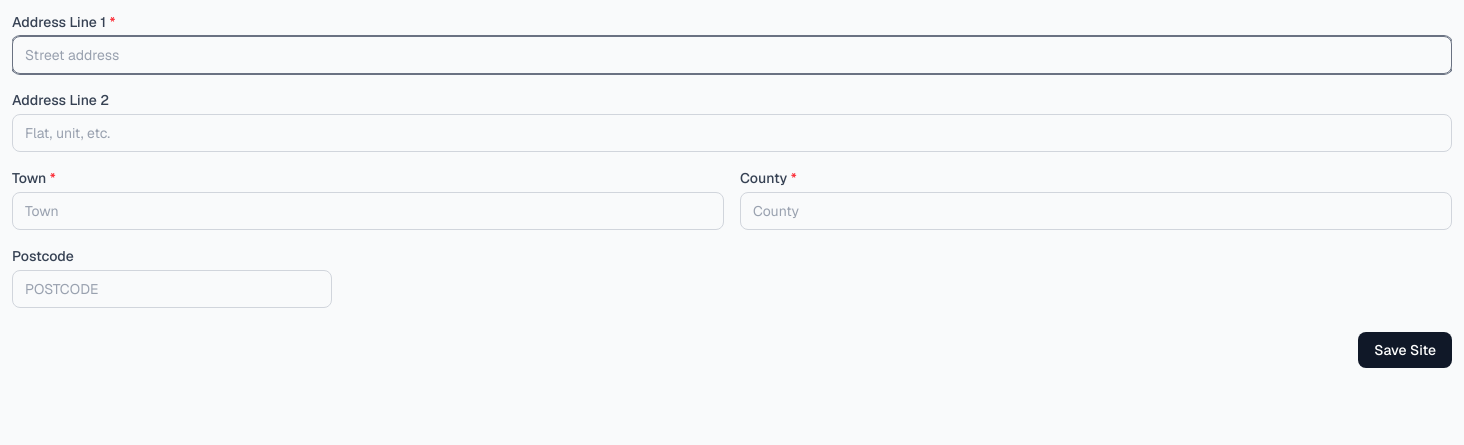
Test: AddSiteForm — typed address survives, and offline is gated › keeps the whole typed address after a server bounce
Type "9 Test Street" into the field labelled "Address Line 1 *" at [732, 55], box [12, 36, 1452, 74]
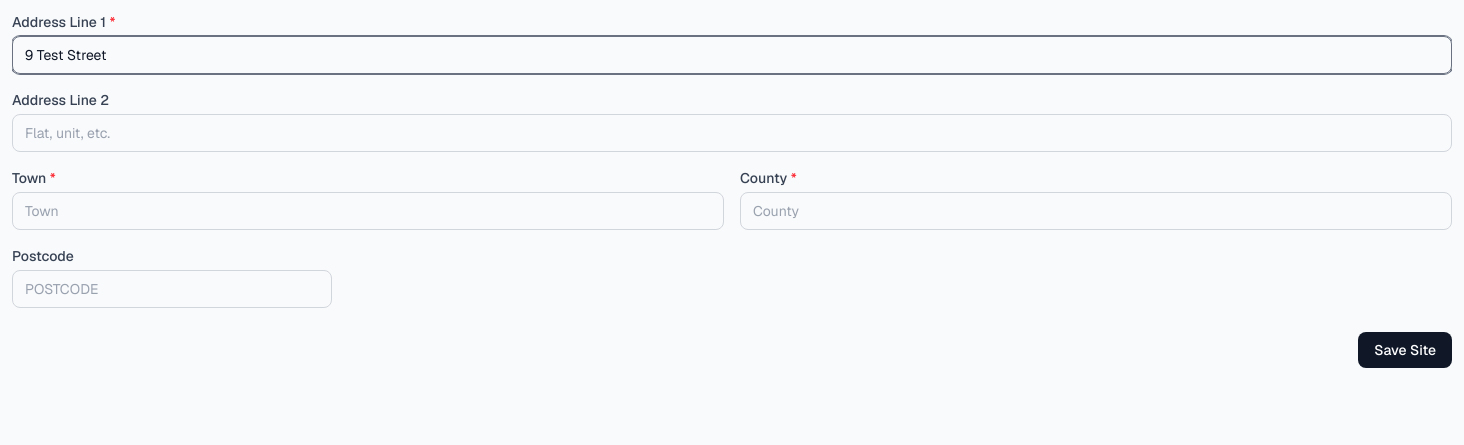
Type "Rear unit" into the field labelled "Address Line 2" at [732, 133], box [12, 114, 1452, 152]
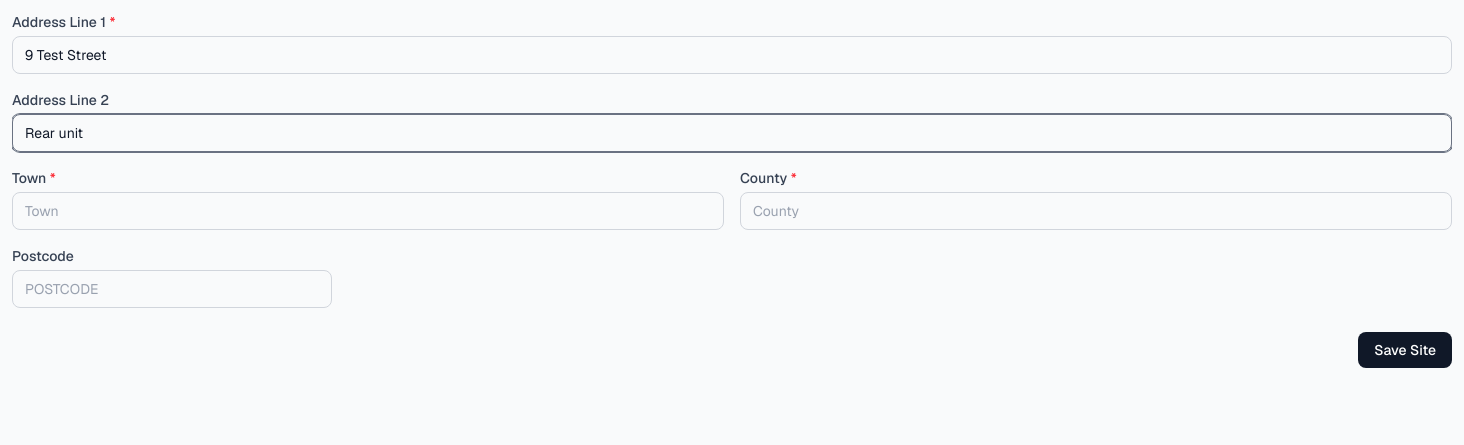
Type "Testford" into the field labelled "Town *" at [368, 211], box [12, 192, 724, 230]
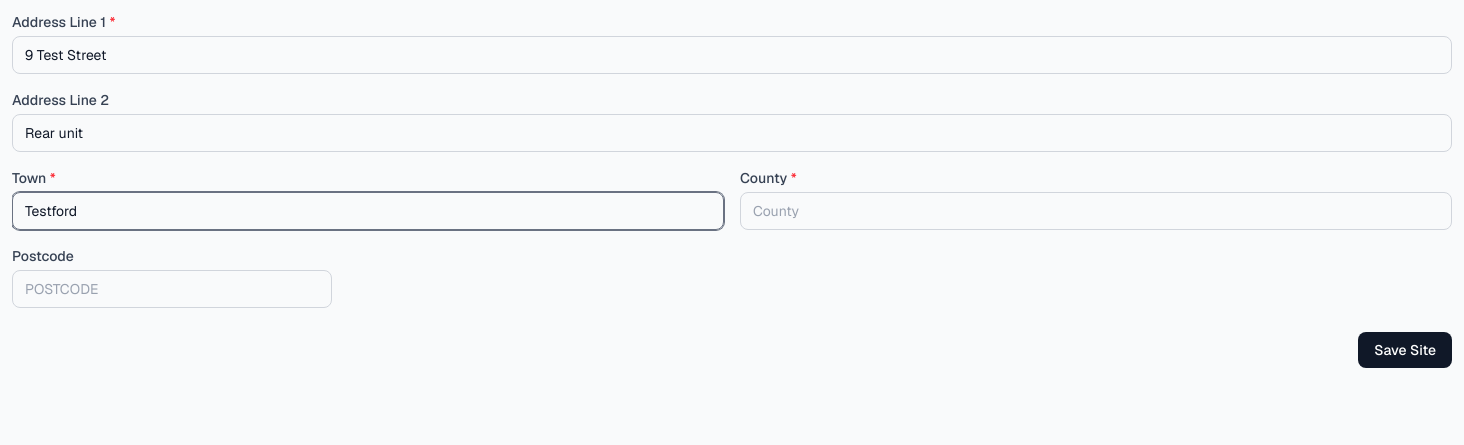
Type "Kent" into the field labelled "County *" at [1096, 211], box [740, 192, 1452, 230]
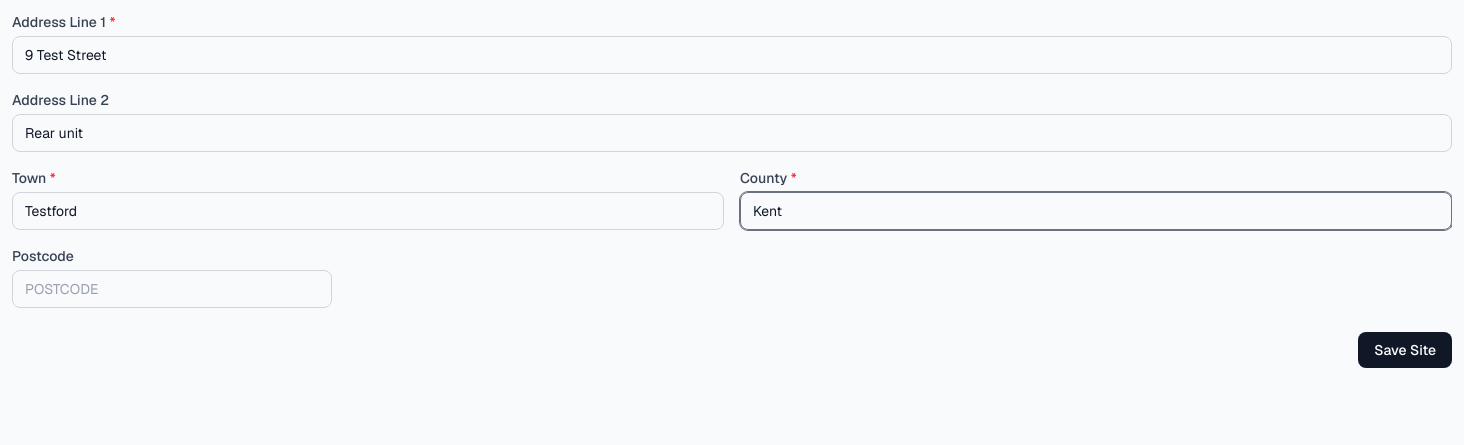
Type "TF9 9ZZ" into the field labelled "Postcode" at [172, 289], box [12, 270, 332, 308]
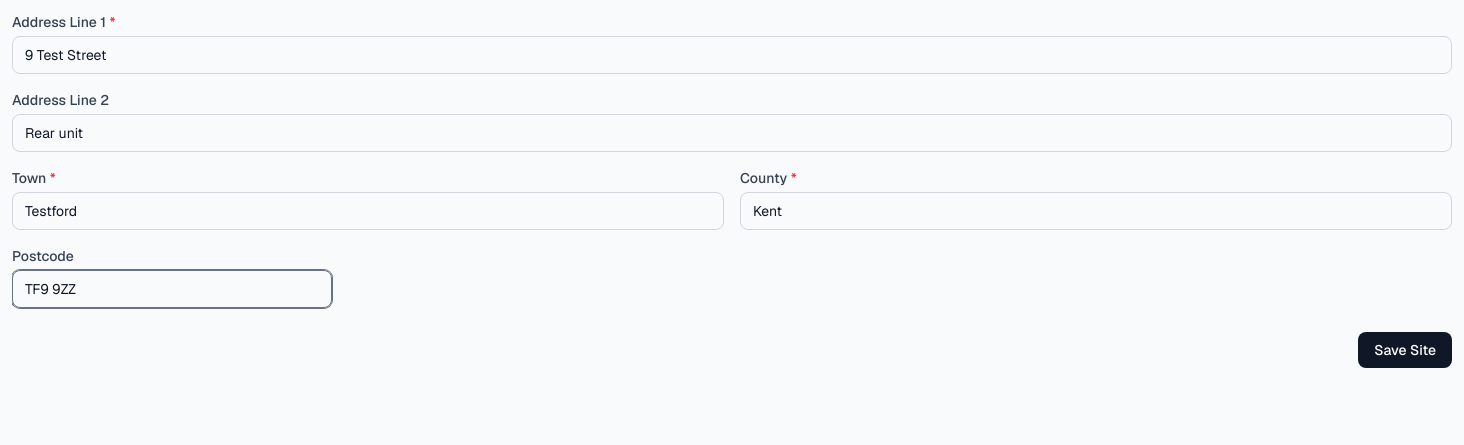
Click the button "Save Site" at [1405, 350], box [1358, 332, 1452, 368]
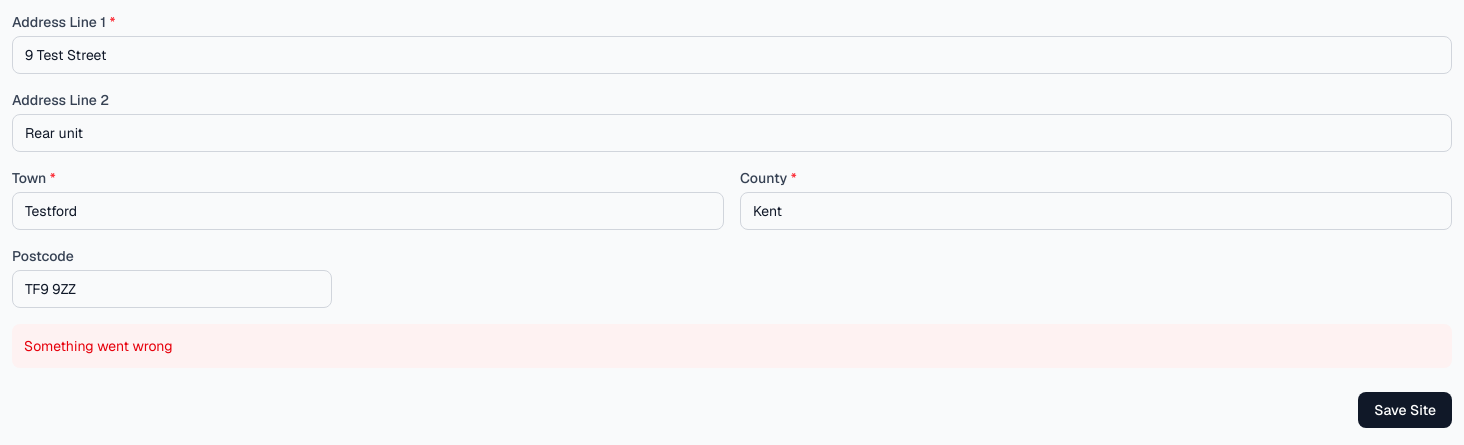
Expected: the text "Something went wrong" is shown, [12, 324, 1452, 368]
